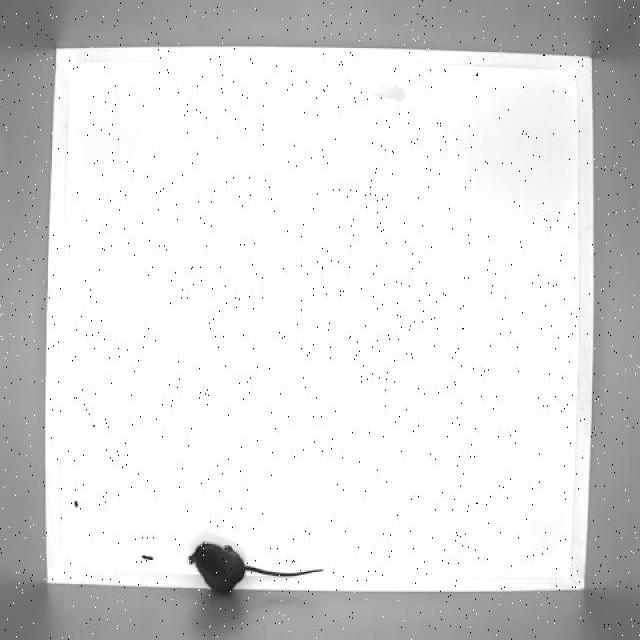rat: (188, 539, 324, 593)
